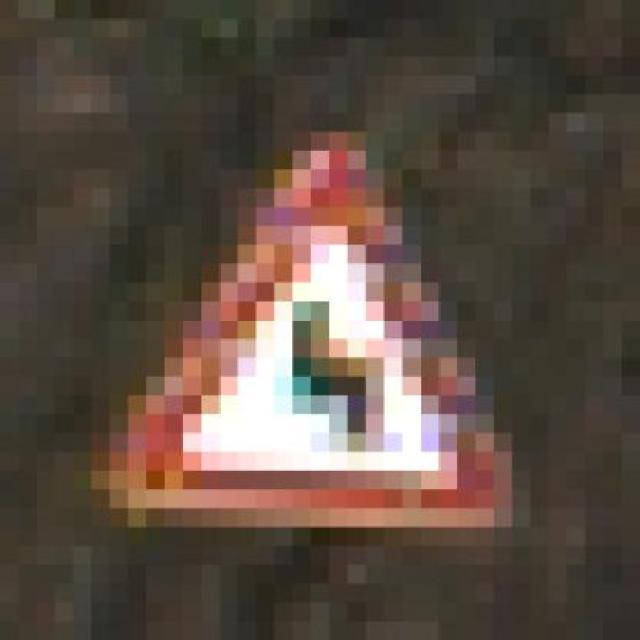Left Zig Zag Traffic: (85, 112, 542, 582)
